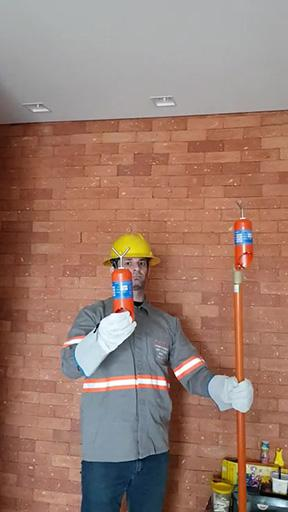Detector_Tensao_Contato: (108, 244, 135, 324), (234, 200, 254, 271)
Vara_Manobra: (230, 271, 247, 512)
